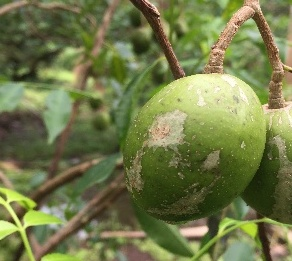Coc: (118, 69, 263, 225)
